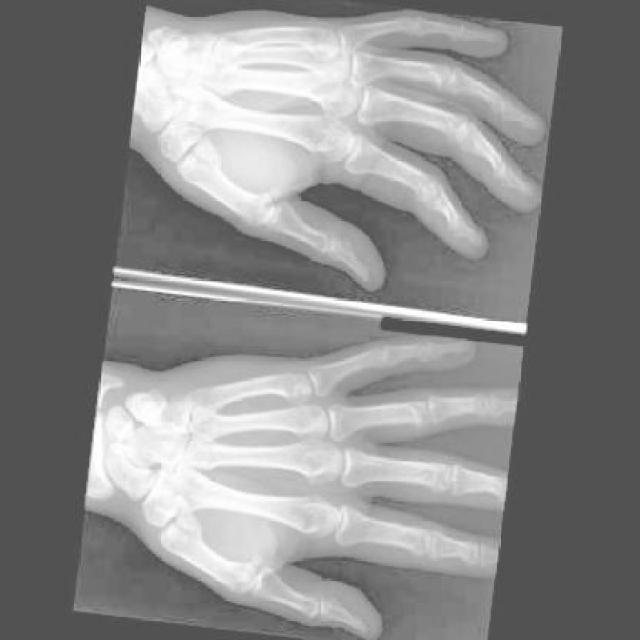Fracture: (171, 514, 214, 557), (188, 140, 228, 185)
